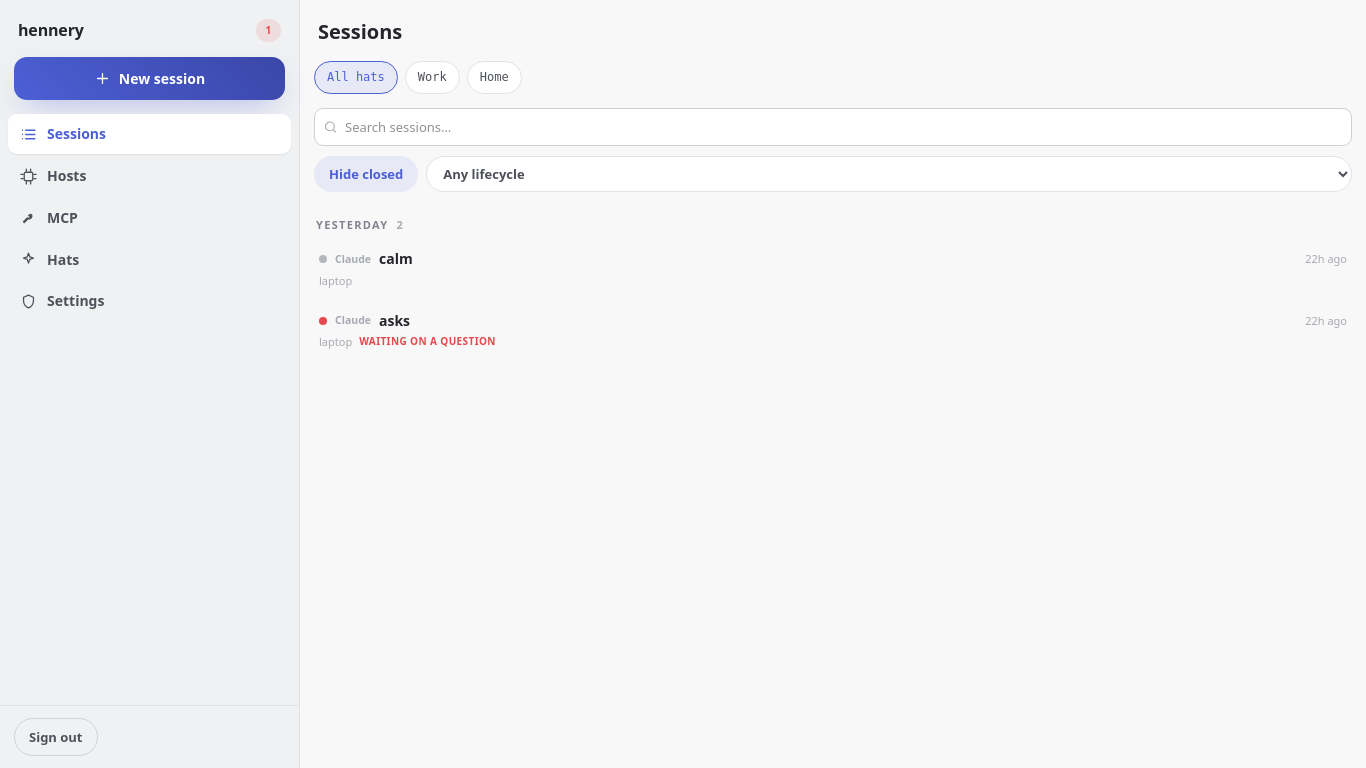
the waiting count › follows the stream while a search is set
The width and height of the screenshot is (1366, 768).
Type "zz" into the search field labelled "Search sessions" at point(833, 127), box 314,108 -> 1352,146
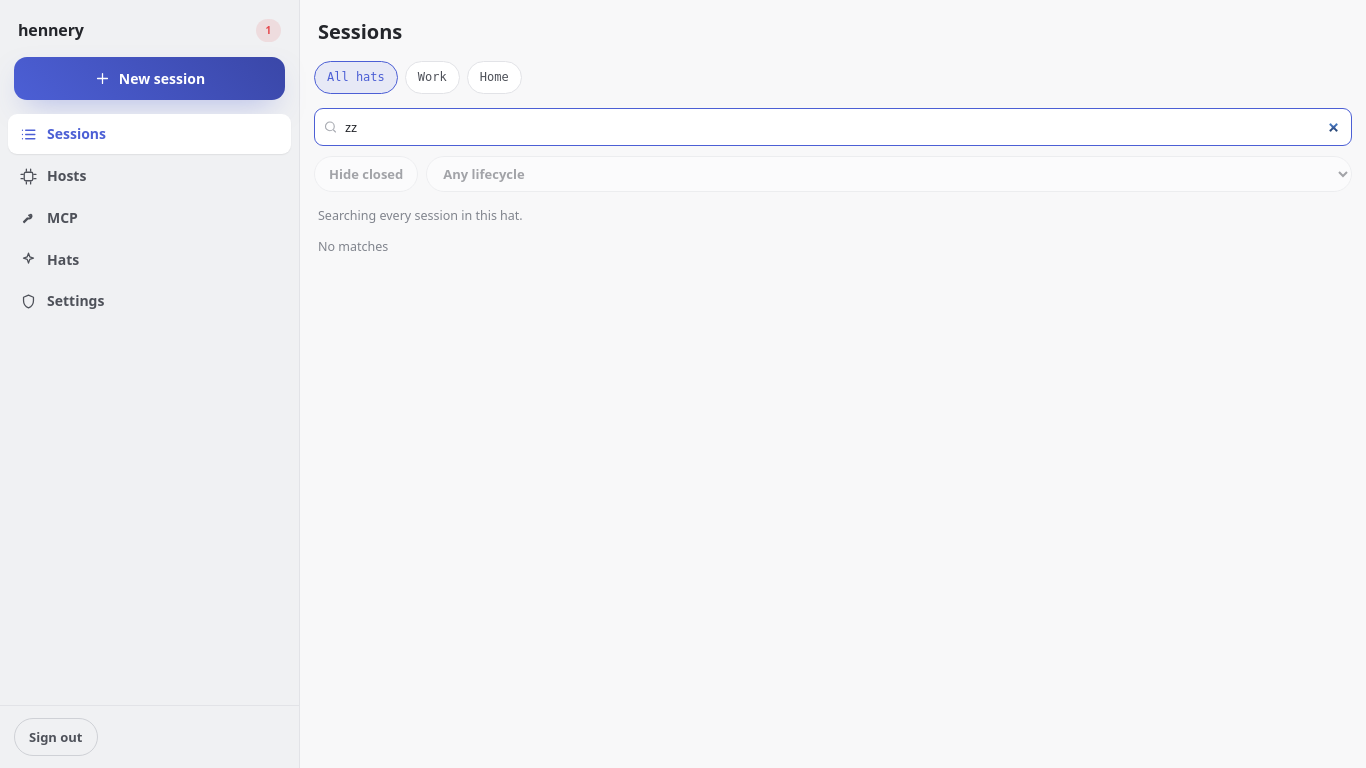
expect the text "hennery" is shown: met, box 18,18 -> 84,43
expect the text "No matches" is shown: met, box 318,238 -> 388,255
